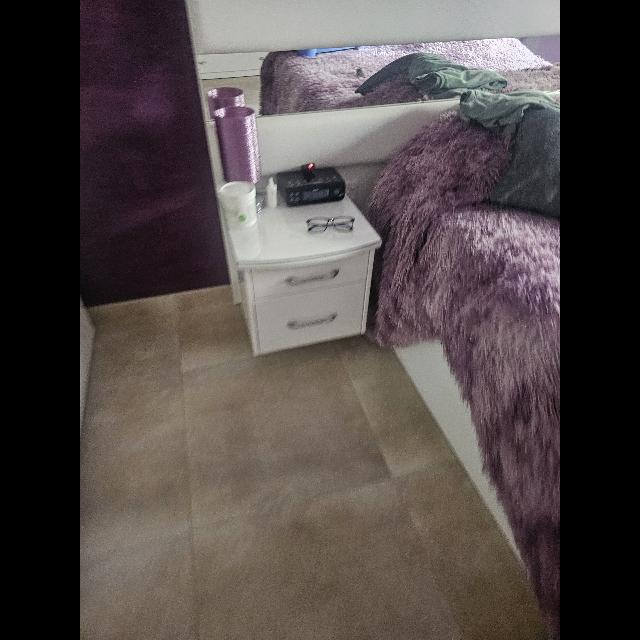glasses: (306, 216, 354, 234)
